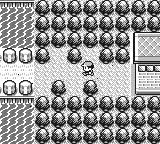captura: (1, 7, 34, 48), (1, 103, 34, 143)
main: (81, 61, 94, 76)
no-caminable: (36, 80, 160, 143), (36, 1, 160, 64), (135, 33, 160, 94), (1, 48, 33, 63), (1, 80, 33, 95)
